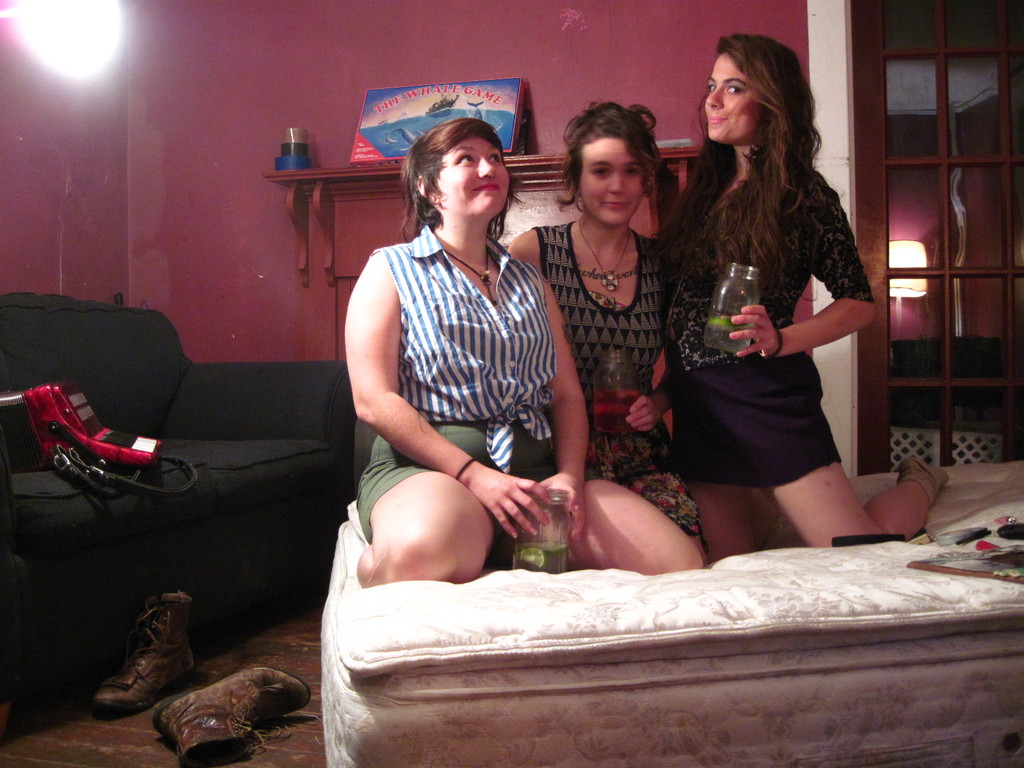Couch: (0, 292, 365, 735)
